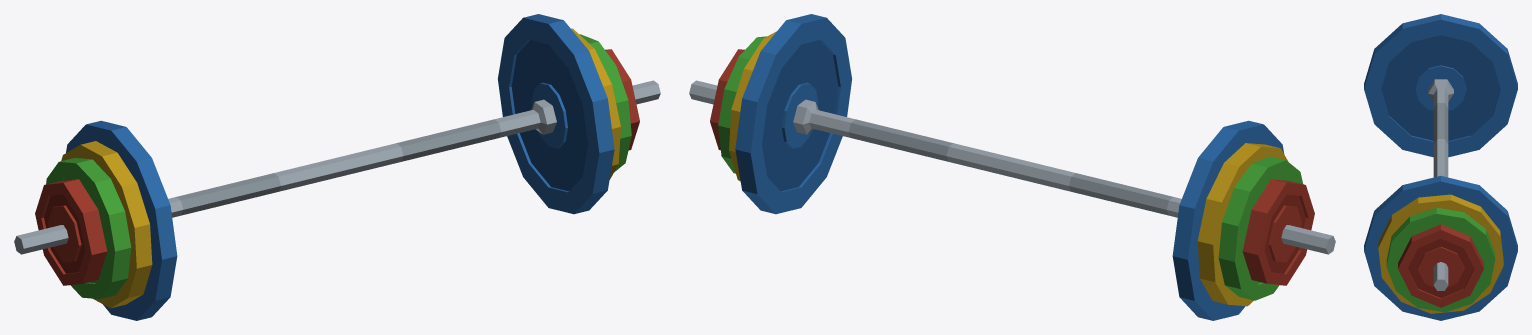
Rendered from SM_Prop_Gym_Bar_Bell_Preset_01.obj.
3 renders of one model, left to right at view 1: azimuth 30°, elevation 25°; view 2: azimuth 150°, elevation 25°; view 3: azimuth 270°, elevation 25°, orthographic. The views are drawn at different scales.
Visible parts, largest first — view 1: SM_Prop_Gym_Bar_Bell_Preset_01_0; view 2: SM_Prop_Gym_Bar_Bell_Preset_01_0; view 3: SM_Prop_Gym_Bar_Bell_Preset_01_0.
Boxes of the visible parts, left/top/right/bottom form: SM_Prop_Gym_Bar_Bell_Preset_01_0: left=14, top=14, right=660, bottom=320; SM_Prop_Gym_Bar_Bell_Preset_01_0: left=689, top=14, right=1335, bottom=320; SM_Prop_Gym_Bar_Bell_Preset_01_0: left=1364, top=14, right=1517, bottom=320.
Bounding box in the file's own units: 1.82 × 0.5023 × 0.5023.
Materials: 1 (1 with a texture image).
